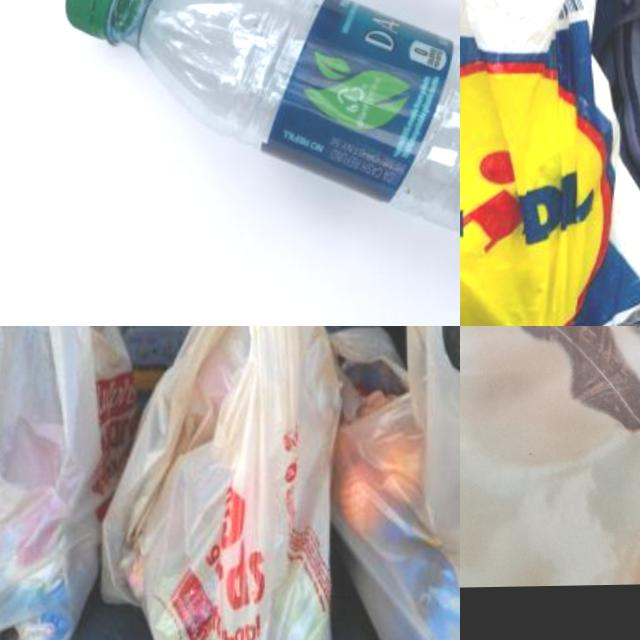garrafa plástica: (127, 0, 460, 257)
sacola plástica: (98, 326, 362, 640), (460, 0, 640, 326), (329, 326, 460, 640), (0, 326, 107, 640)
tampa plástica: (62, 0, 148, 44)
